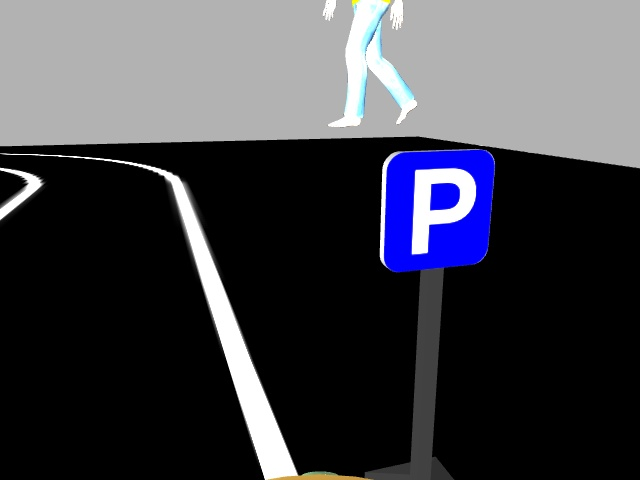Parking: (376, 148, 501, 272)
